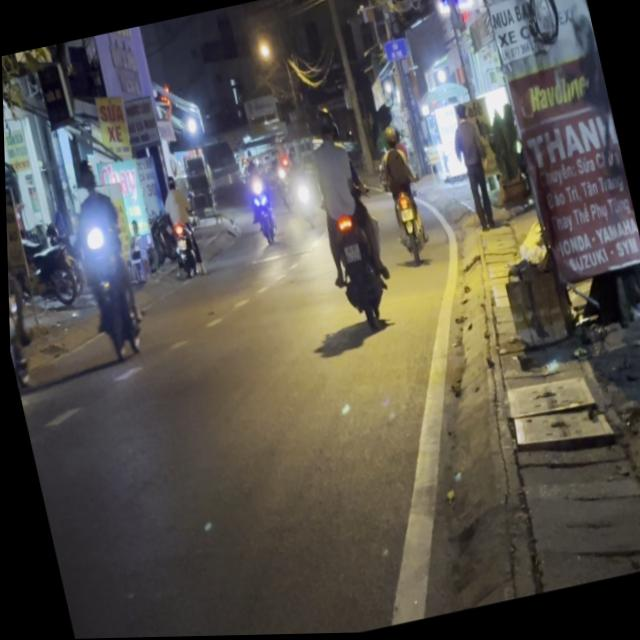helmet: (311, 108, 338, 146)
licenseplate: (292, 100, 398, 337), (54, 151, 157, 369)
nohelmet: (341, 243, 360, 263)
